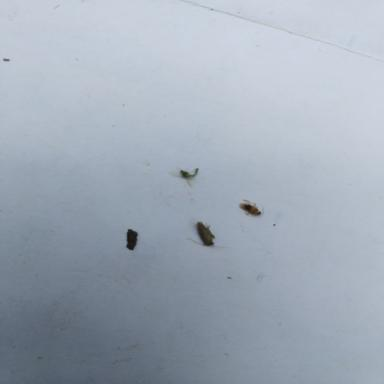pbw: (187, 221, 231, 248)
